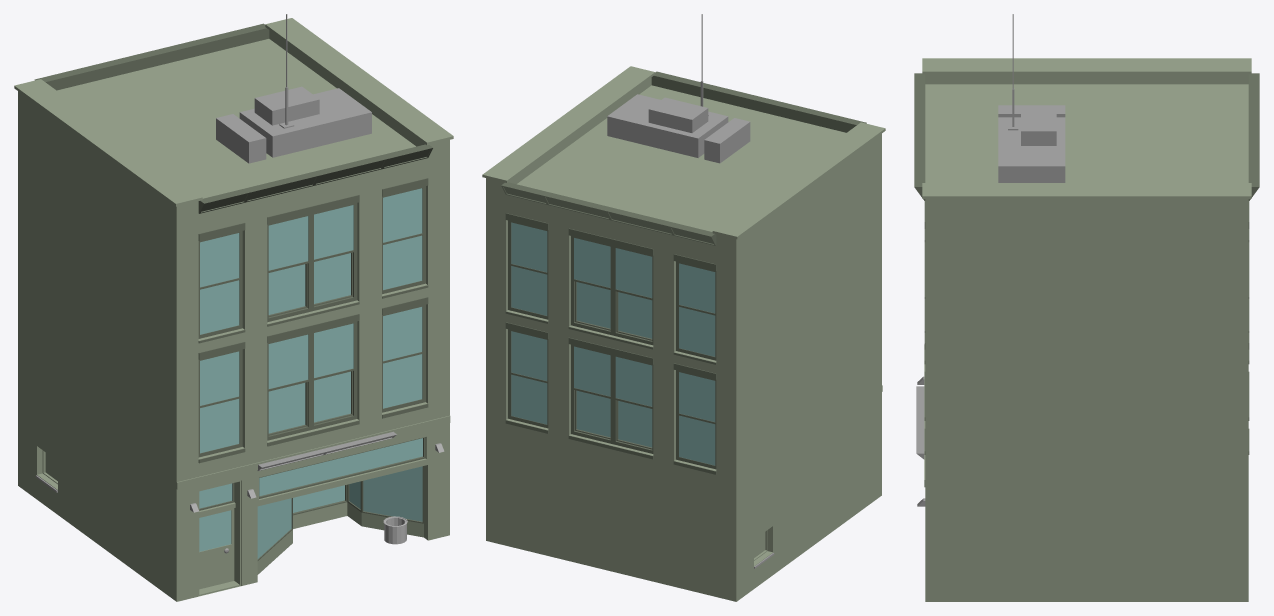
Rendered from BuildingC_Refined.fbx.
3 views of the same model, side by side, from view 1: azimuth 30°, elevation 25°; view 2: azimuth 150°, elevation 25°; view 3: azimuth 270°, elevation 25° (orthographic). The views are drawn at different scales.
Visible parts, largest first — view 1: Building_3; view 2: Building_3; view 3: Building_3.
Part boxes in pixels (bbox=[...]): Building_3: bbox=[14, 14, 453, 601]; Building_3: bbox=[482, 14, 885, 601]; Building_3: bbox=[914, 14, 1259, 601].
Bounding box in the file's own units: 814 × 1452 × 861.
